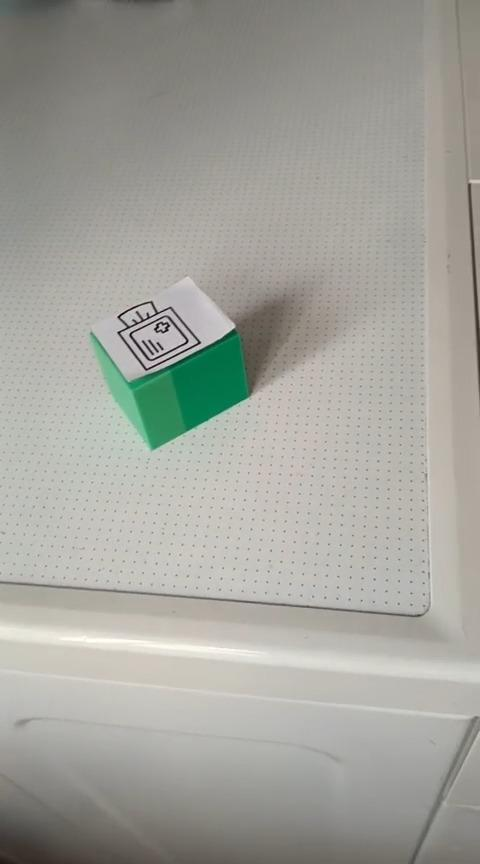Gauze: (88, 274, 250, 451)
